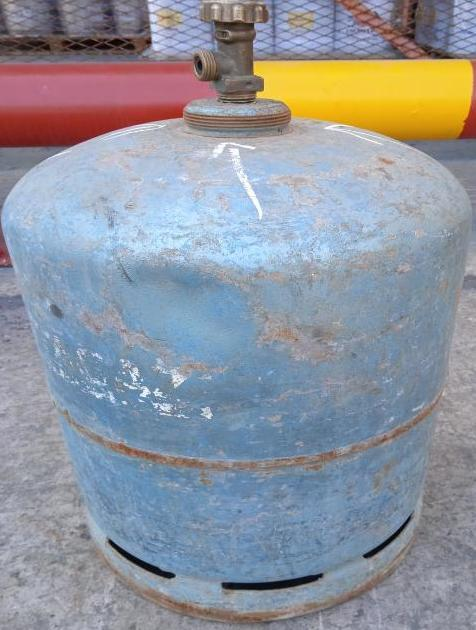cylinder: (1, 0, 476, 630)
